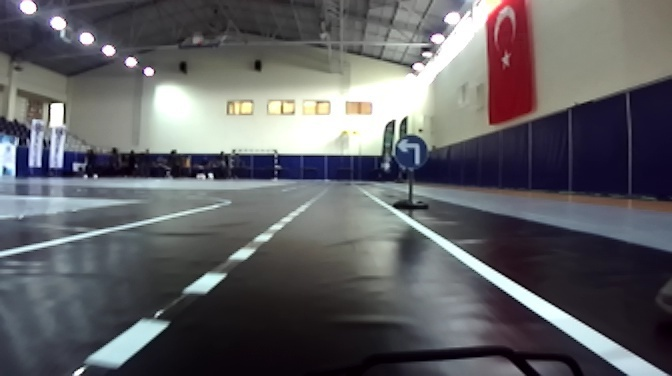sola_donus: (390, 133, 432, 166)
